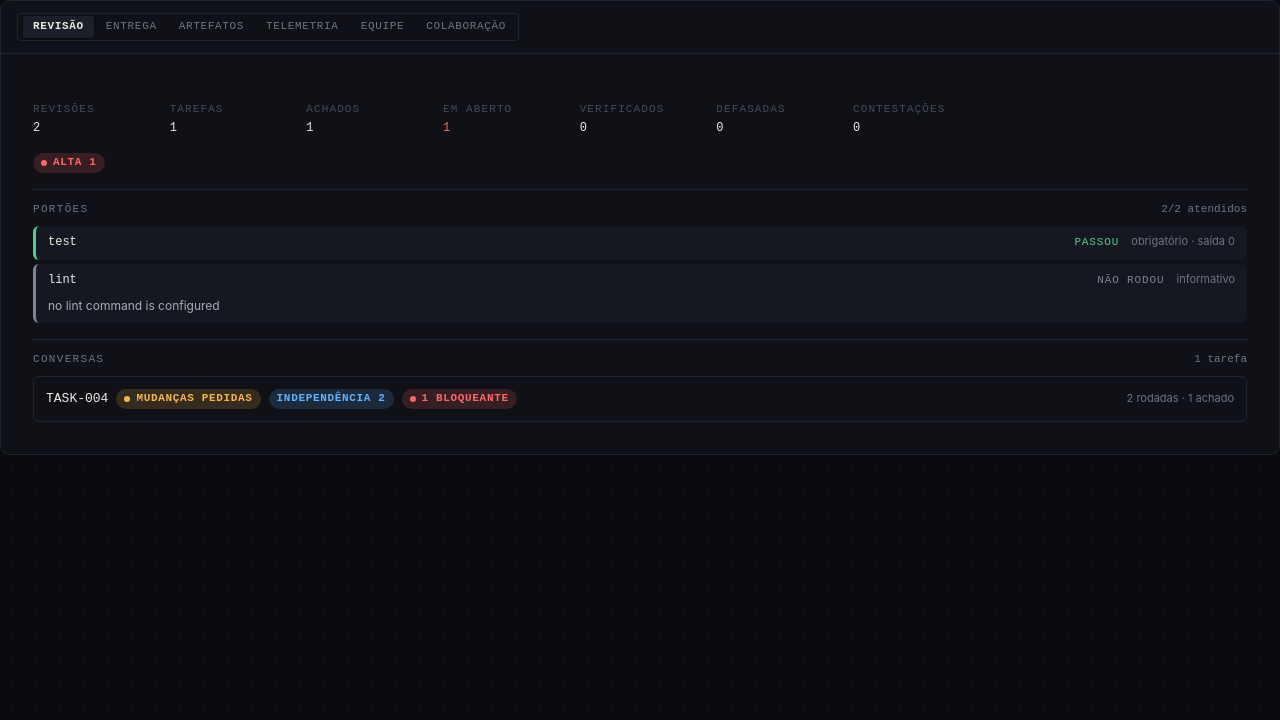
Test: the review a person reads after the run › shows the finding, its severity and what the reviewer suggested
This screenshot has width=1280, height=720.
Expected: the text "drops the last occurrence" is not shown
Click the button "TASK-004".
click(77, 398)  # box x1=34 y1=377 x2=1246 y2=421
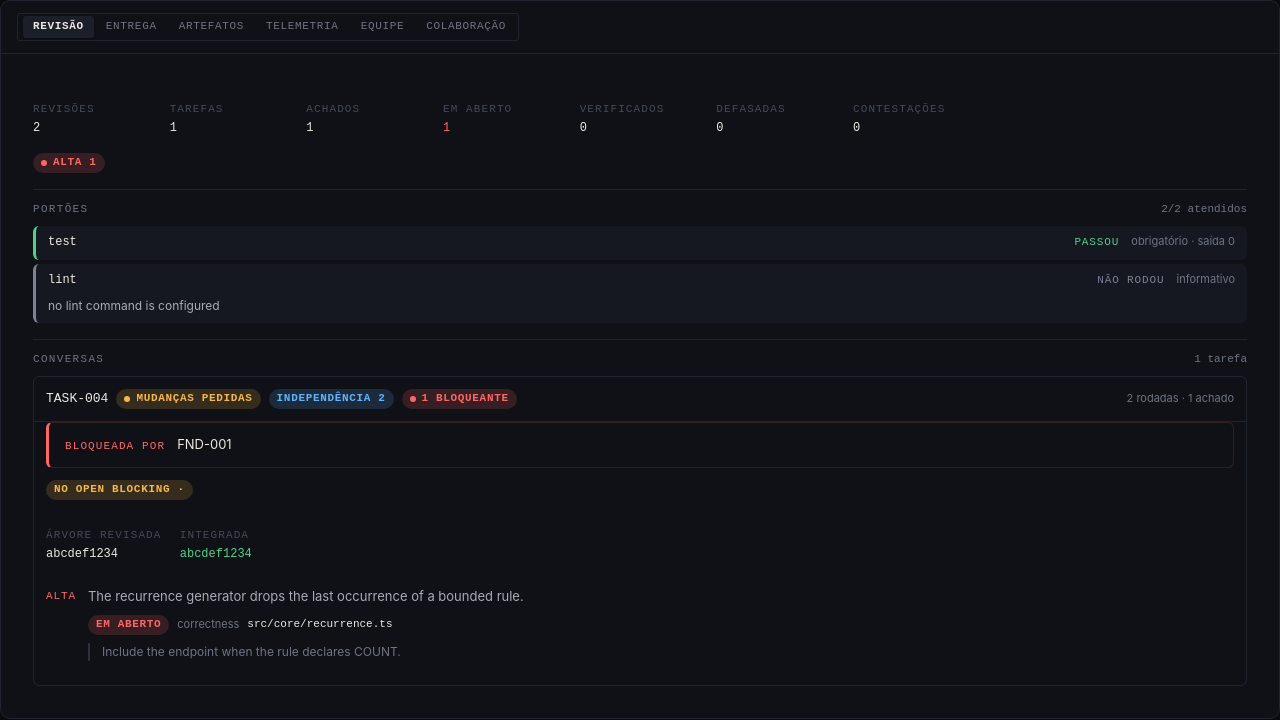
Expected: the text "drops the last occurrence" is shown, x1=88 y1=588 x2=524 y2=604
Expected: the text "alta" is shown, x1=46 y1=590 x2=76 y2=602
Expected: the text "Include the endpoint when the rule declares COUNT." is shown, x1=88 y1=643 x2=1234 y2=661
